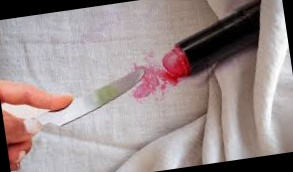lipstick: (125, 53, 176, 109)
